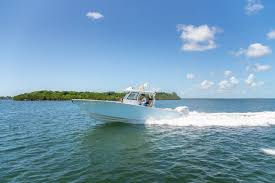boat: (71, 82, 195, 129)
